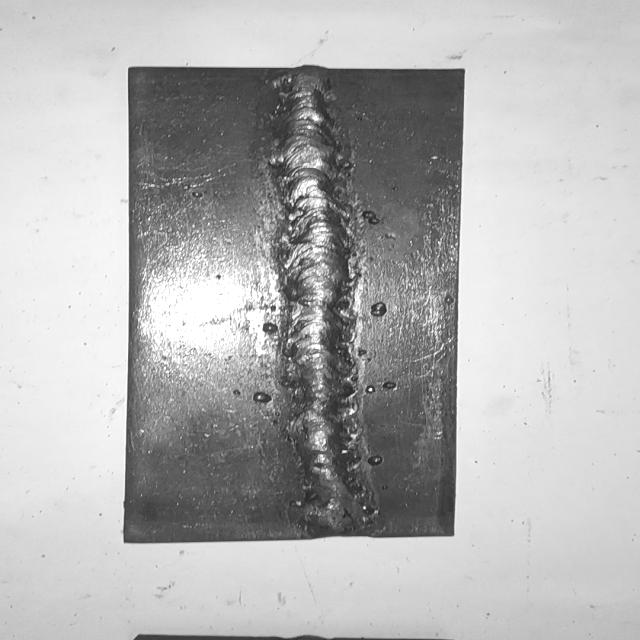Good Weld: (272, 69, 362, 530)
